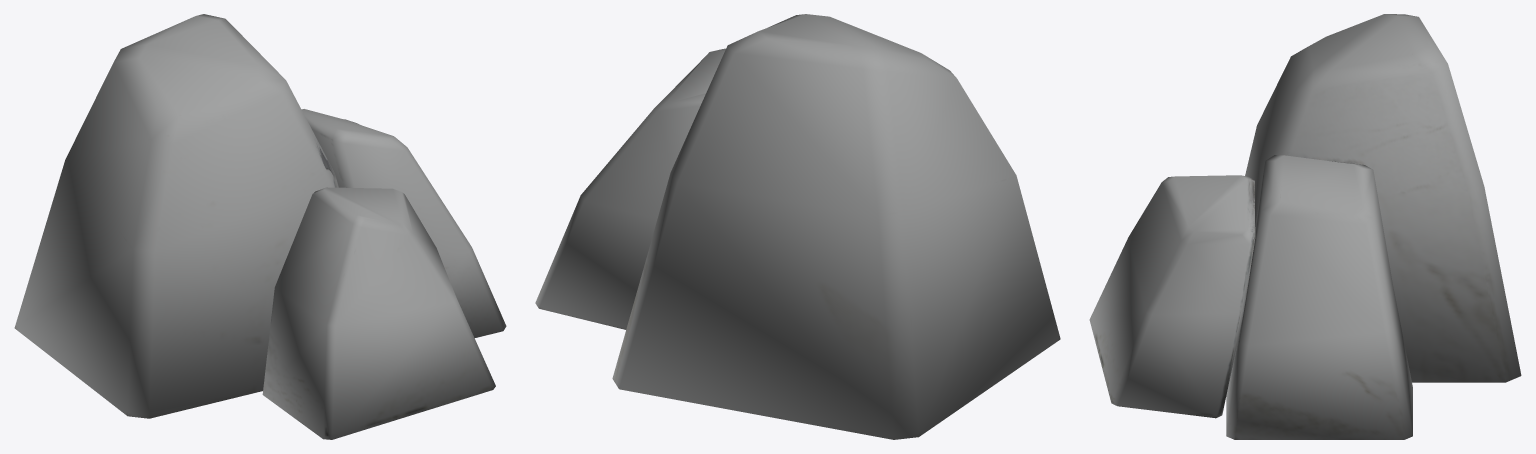
The model's file is Stone_3.fbx.
The picture shows the model from 3 angles, left to right: view 1: azimuth 30°, elevation 25°; view 2: azimuth 150°, elevation 25°; view 3: azimuth 270°, elevation 25°; orthographic projection. The views are drawn at different scales.
Visible parts, largest first — view 1: Stone_3; view 2: Stone_3; view 3: Stone_3.
Part boxes in pixels (box(x1,y1,x2,y2)): Stone_3: box(14, 14, 506, 439); Stone_3: box(535, 14, 1060, 439); Stone_3: box(1089, 14, 1521, 439).
Size of the model in its own units: 200 by 148 by 199.
1 material, 1 textured.
